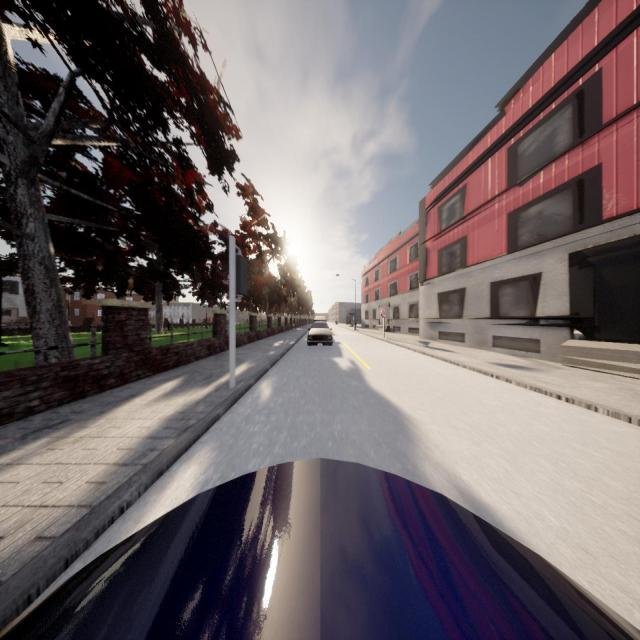Pedestrian: (292, 319, 296, 332)
Traffic_Signs: (380, 308, 389, 318)
Vehicle: (0, 457, 640, 640), (307, 322, 332, 346), (314, 314, 327, 322)
traffic_light: (235, 253, 249, 298)
